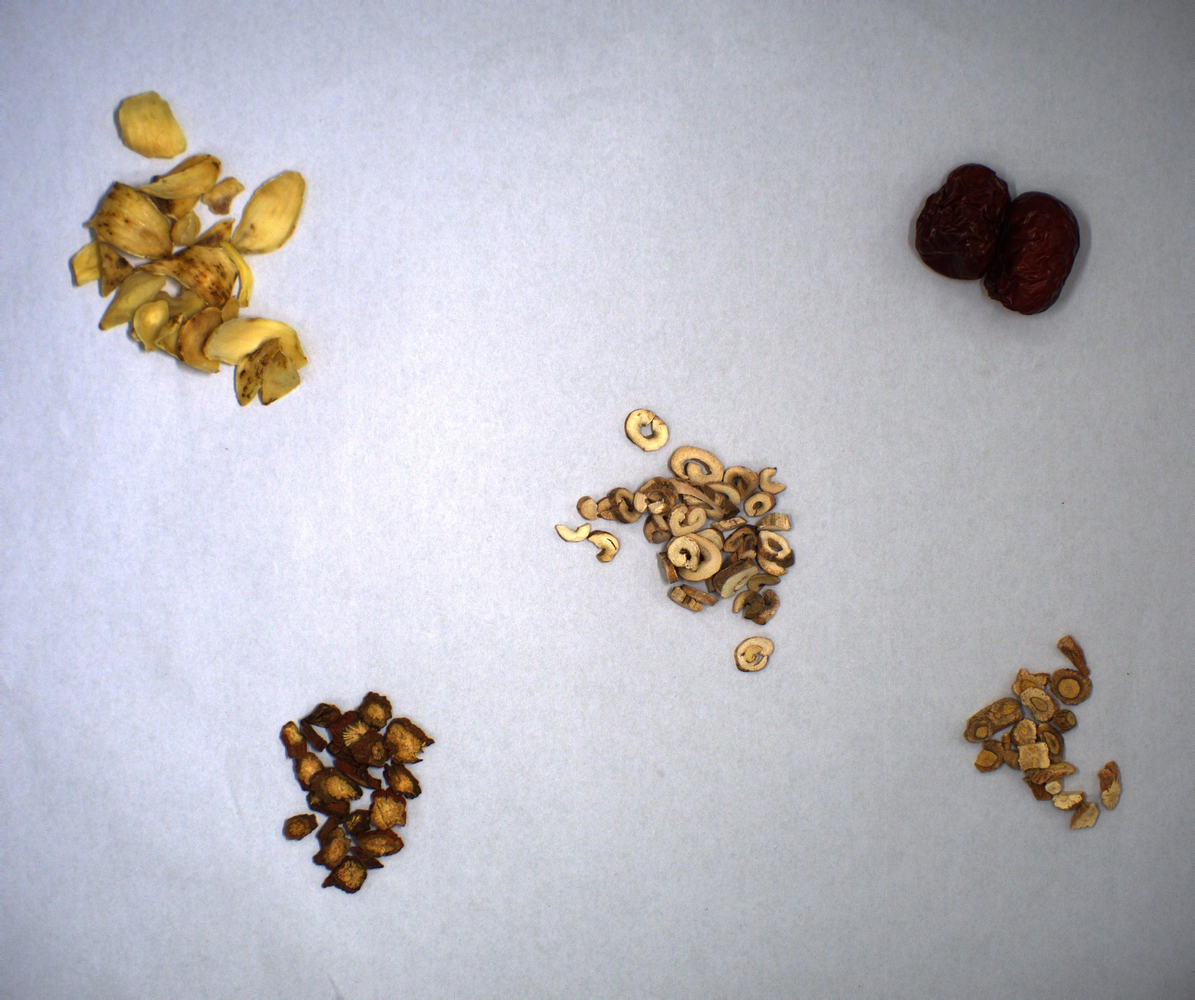baihe: (54, 83, 318, 418)
banlangen: (950, 626, 1133, 842)
danshen: (275, 684, 443, 898)
dazao: (898, 152, 1092, 323)
mudanpi: (548, 402, 796, 681)
